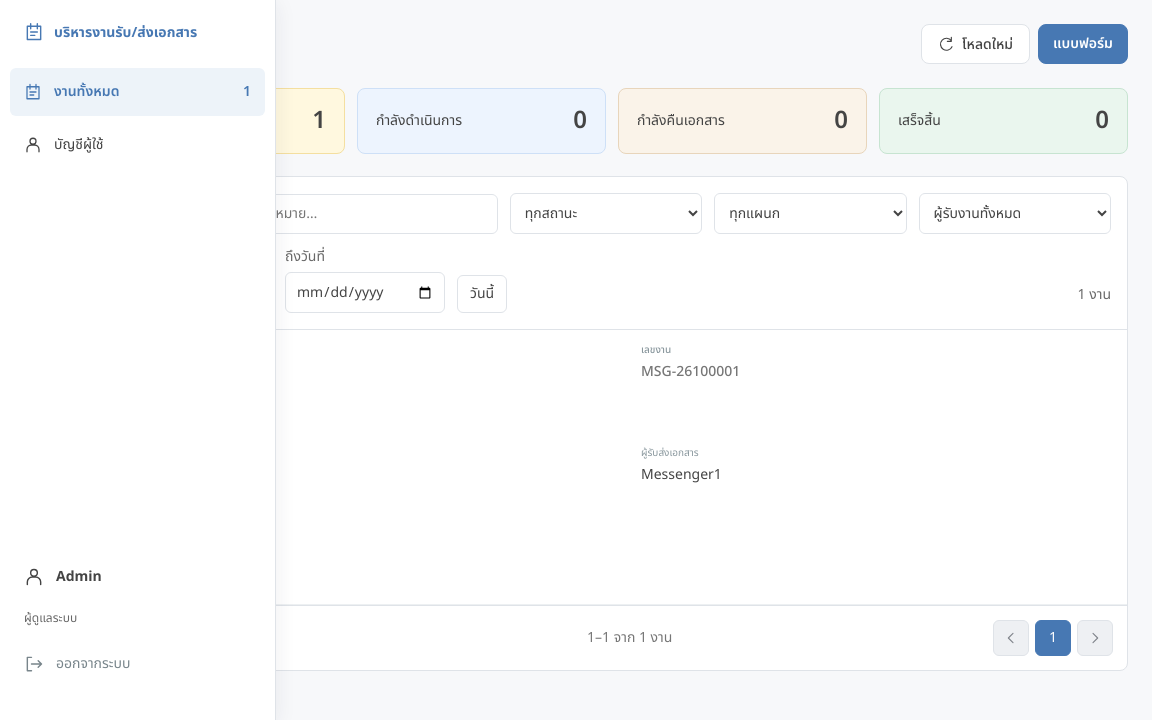
Test: filters the management list and opens job details without showing the Messenger navigation
Step 1. Click the button "MSG-26100001" → {"x": 612, "y": 589}, box [97,330,1127,605]
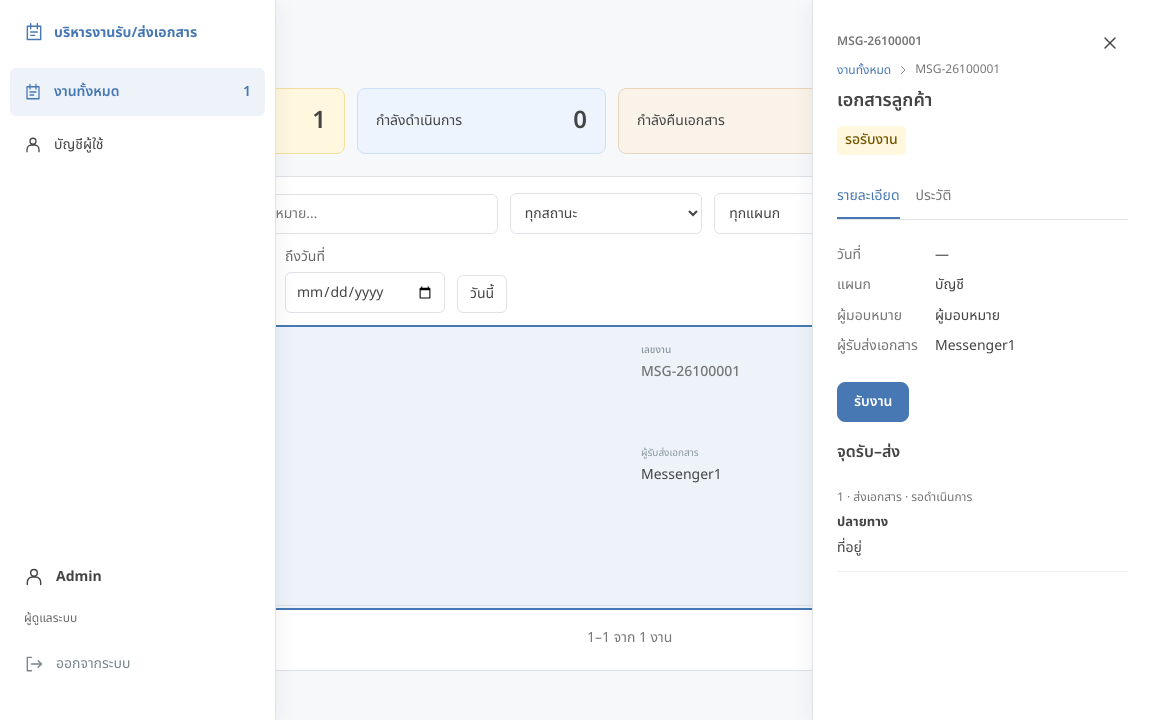
Result: the element named "รายละเอียดงาน" is shown at [812,0,1151,719]
Result: the text "ปลายทาง" is shown at [837,512,888,532]
Step 2. Type "missing" into the field named "ค้นหางาน" → {"x": 305, "y": 214}, box [113,194,498,234]
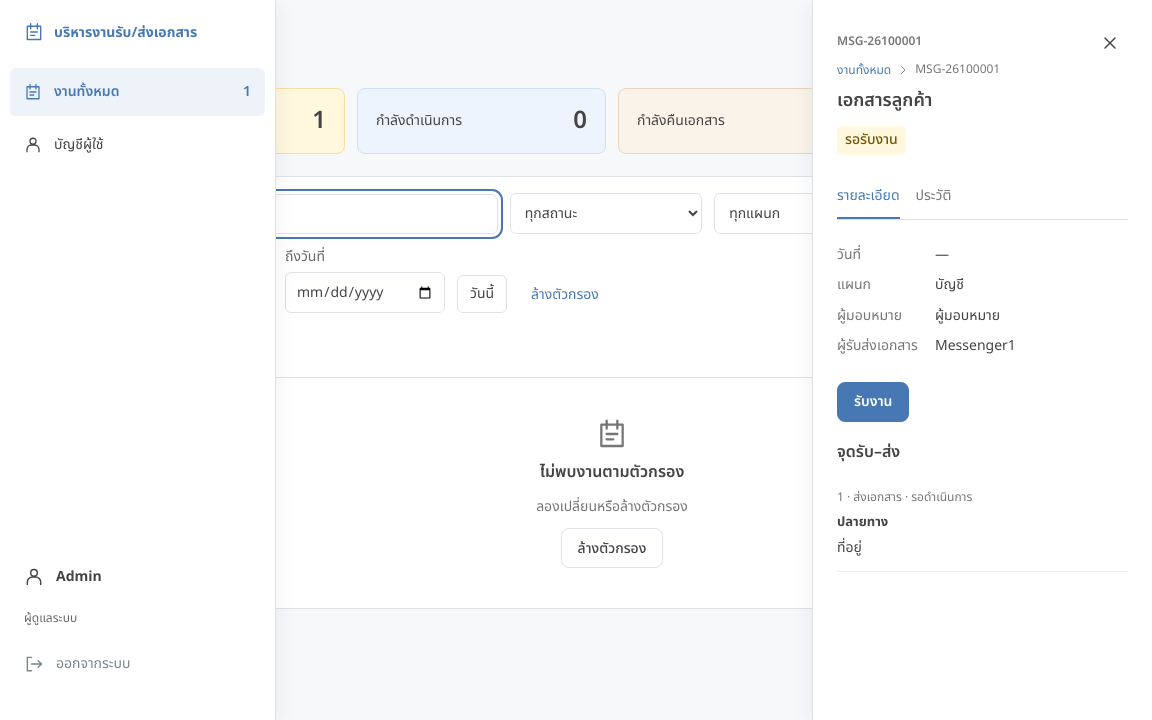
Result: the heading "ไม่พบงานตามตัวกรอง" is shown at [540,460,684,486]
